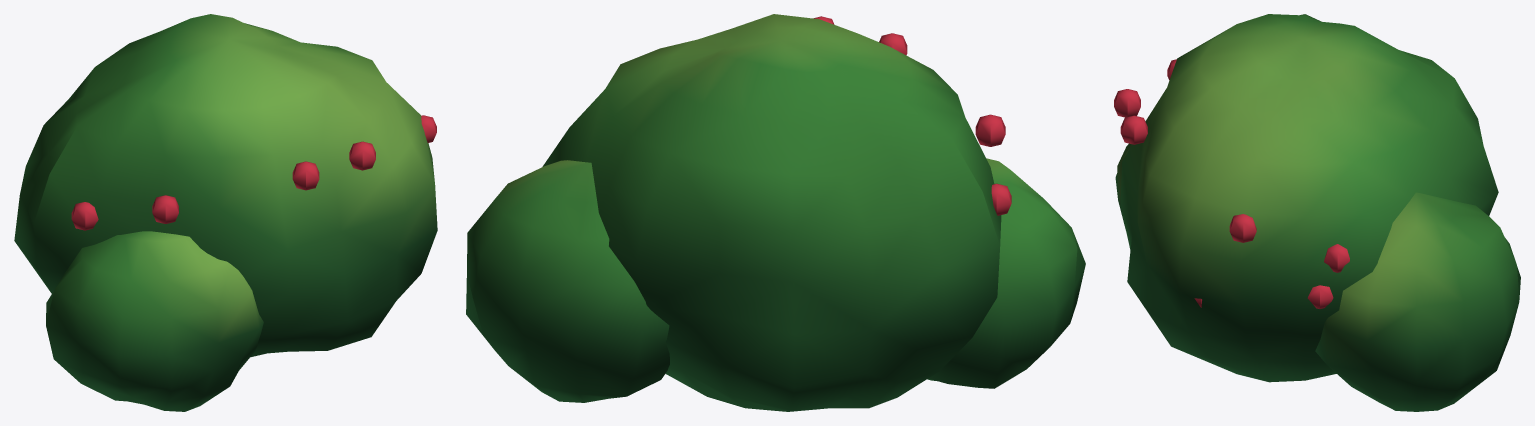
File: BushA.fbx
The picture shows the model from 3 angles, left to right: view 1: azimuth 30°, elevation 25°; view 2: azimuth 150°, elevation 25°; view 3: azimuth 270°, elevation 25°; orthographic projection. The views are drawn at different scales.
Visible parts, largest first — view 1: BushA; view 2: BushA; view 3: BushA.
Boxes of the visible parts, left/top/right/bottom form: BushA: left=14, top=14, right=437, bottom=411; BushA: left=466, top=14, right=1085, bottom=411; BushA: left=1114, top=14, right=1520, bottom=411.
Size of the model in its own units: 1.14 by 0.7529 by 0.9118.
